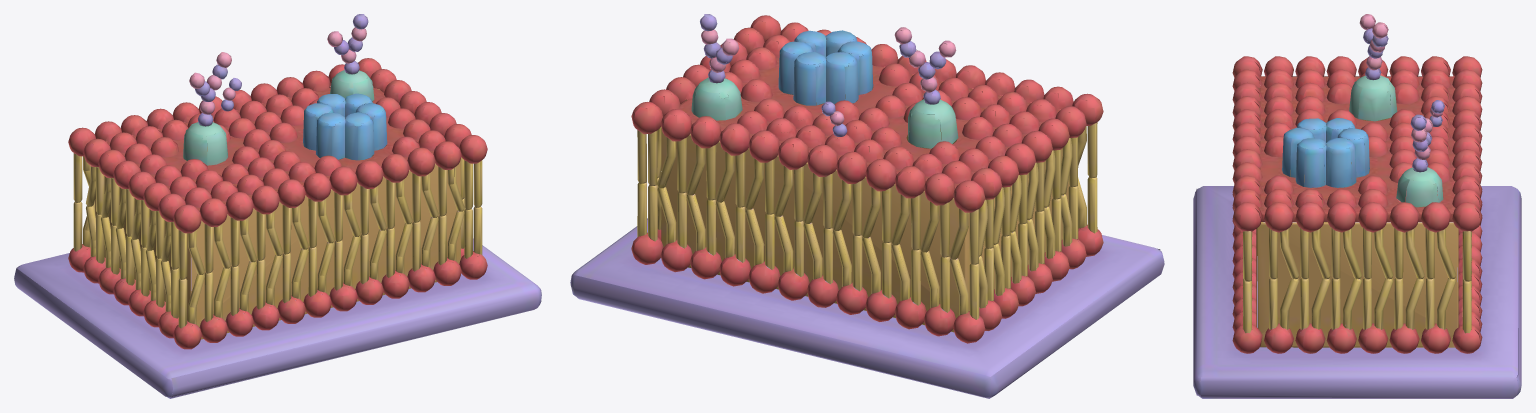
File: cell-membrane.glb
3 renders of one model, left to right at view 1: azimuth 30°, elevation 25°; view 2: azimuth 150°, elevation 25°; view 3: azimuth 270°, elevation 25°, orthographic. The views are drawn at different scales.
Parts seen in each view (by area): view 1: cell-membrane_body; view 2: cell-membrane_body; view 3: cell-membrane_body.
Part boxes in pixels (left/top/right/bottom): cell-membrane_body: left=14, top=14, right=541, bottom=398; cell-membrane_body: left=570, top=14, right=1164, bottom=398; cell-membrane_body: left=1193, top=14, right=1521, bottom=398.
Bounding box in the file's own units: 0.2118 × 0.133 × 0.1518.
1 material, 1 textured.
